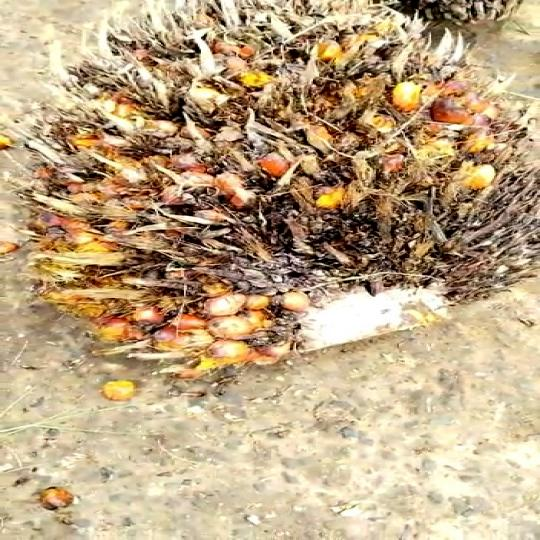terlalu masak: (0, 0, 540, 422)
